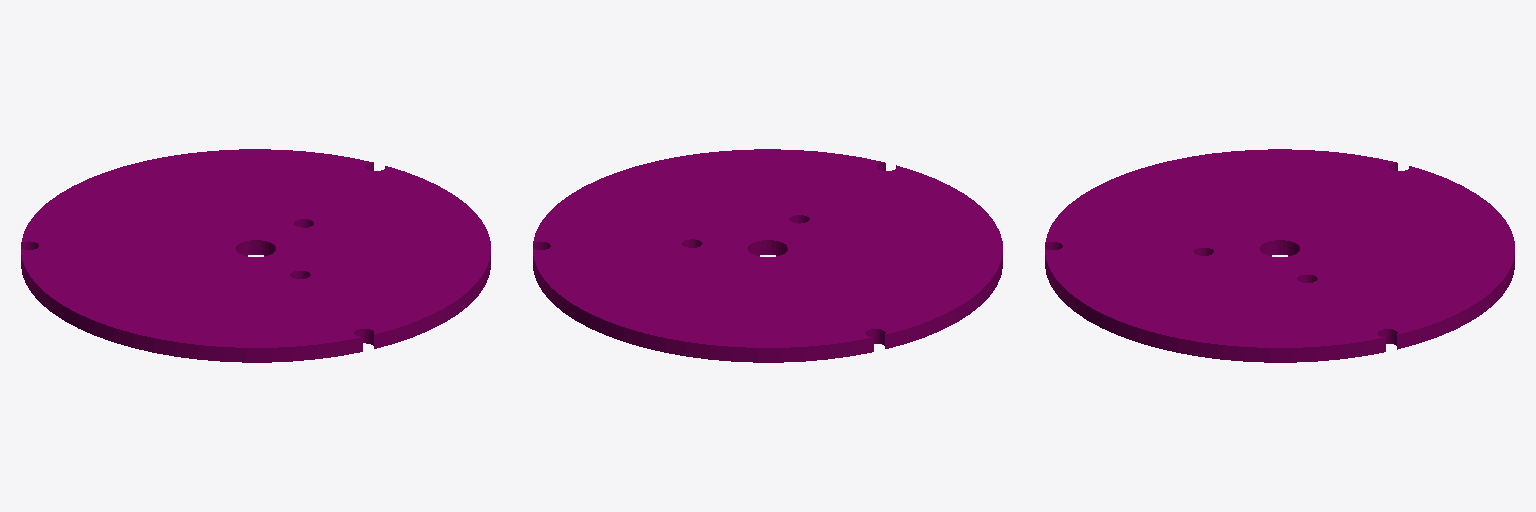
Rendered from pcb.obj.
The picture shows the model from 3 angles: view 1: azimuth 30°, elevation 25°; view 2: azimuth 150°, elevation 25°; view 3: azimuth 270°, elevation 25°; orthographic projection.
Parts seen in each view (by area): view 1: pcb; view 2: pcb; view 3: pcb.
Part boxes in pixels (x1,y1,x2,y2): pcb: (21, 149, 490, 362); pcb: (533, 149, 1002, 362); pcb: (1045, 149, 1514, 362).
Bounding box in the file's own units: 57.97 × 2 × 57.99.